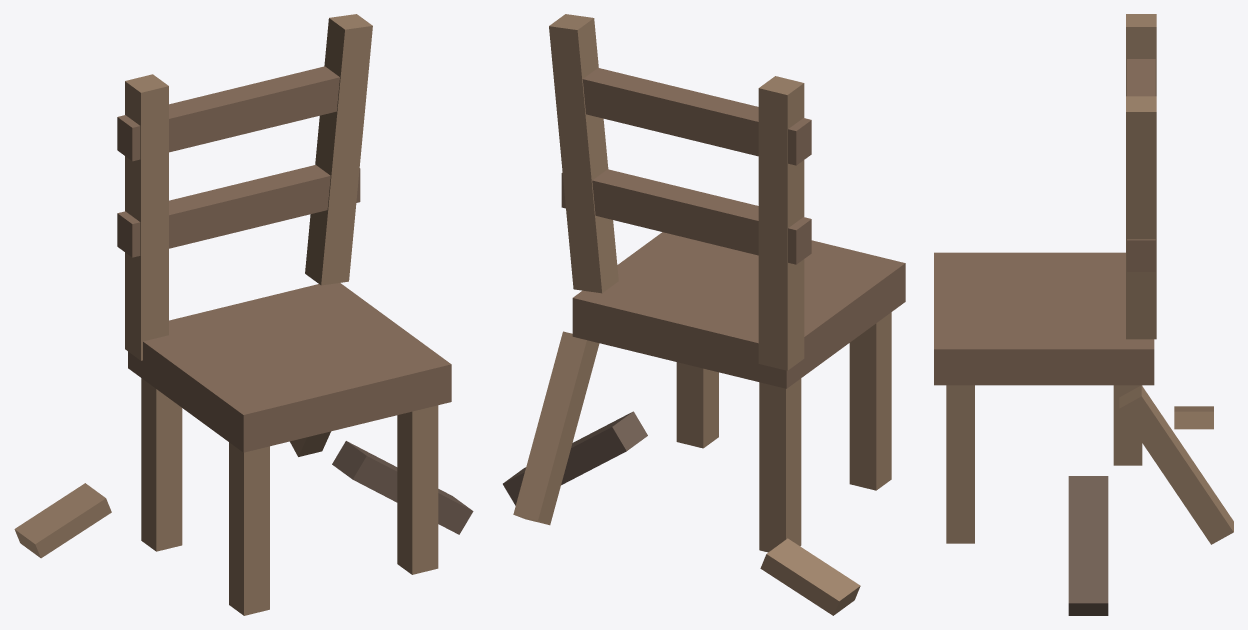
Rendered from Broken_Dining_Chair.glb.
The picture shows the model from 3 angles, left to right: view 1: azimuth 30°, elevation 25°; view 2: azimuth 150°, elevation 25°; view 3: azimuth 270°, elevation 25°; orthographic projection. The views are drawn at different scales.
Parts seen in each view (by area): view 1: Broken_Dining_Chair_piece_000, Broken_Dining_Chair_piece_008, Broken_Dining_Chair_piece_007, Broken_Dining_Chair_piece_006, Broken_Dining_Chair_piece_005, Broken_Dining_Chair_piece_002, Broken_Dining_Chair_piece_001, Broken_Dining_Chair_piece_003, Broken_Dining_Chair_piece_010, Broken_Dining_Chair_piece_009, Broken_Dining_Chair_piece_004; view 2: Broken_Dining_Chair_piece_000, Broken_Dining_Chair_piece_007, Broken_Dining_Chair_piece_008, Broken_Dining_Chair_piece_006, Broken_Dining_Chair_piece_005, Broken_Dining_Chair_piece_004, Broken_Dining_Chair_piece_003, Broken_Dining_Chair_piece_001, Broken_Dining_Chair_piece_010, Broken_Dining_Chair_piece_002, Broken_Dining_Chair_piece_009; view 3: Broken_Dining_Chair_piece_000, Broken_Dining_Chair_piece_008, Broken_Dining_Chair_piece_009, Broken_Dining_Chair_piece_004, Broken_Dining_Chair_piece_002, Broken_Dining_Chair_piece_003, Broken_Dining_Chair_piece_007, Broken_Dining_Chair_piece_006, Broken_Dining_Chair_piece_010, Broken_Dining_Chair_piece_005.
Boxes of the visible parts, <box> form: Broken_Dining_Chair_piece_000: <box>128,283,451,452</box>; Broken_Dining_Chair_piece_008: <box>305,14,372,285</box>; Broken_Dining_Chair_piece_007: <box>125,74,168,360</box>; Broken_Dining_Chair_piece_006: <box>117,66,339,161</box>; Broken_Dining_Chair_piece_005: <box>117,165,360,257</box>; Broken_Dining_Chair_piece_002: <box>397,405,438,574</box>; Broken_Dining_Chair_piece_001: <box>229,442,269,615</box>; Broken_Dining_Chair_piece_003: <box>141,378,182,551</box>; Broken_Dining_Chair_piece_010: <box>14,483,111,558</box>; Broken_Dining_Chair_piece_009: <box>332,441,473,534</box>; Broken_Dining_Chair_piece_004: <box>290,431,330,456</box>; Broken_Dining_Chair_piece_000: <box>572,232,905,388</box>; Broken_Dining_Chair_piece_007: <box>758,76,804,370</box>; Broken_Dining_Chair_piece_008: <box>549,14,618,293</box>; Broken_Dining_Chair_piece_006: <box>582,68,811,165</box>; Broken_Dining_Chair_piece_005: <box>561,169,811,264</box>; Broken_Dining_Chair_piece_004: <box>513,331,599,525</box>; Broken_Dining_Chair_piece_003: <box>759,378,801,552</box>; Broken_Dining_Chair_piece_001: <box>849,312,891,490</box>; Broken_Dining_Chair_piece_010: <box>760,538,860,615</box>; Broken_Dining_Chair_piece_002: <box>676,362,718,448</box>; Broken_Dining_Chair_piece_009: <box>503,411,647,505</box>; Broken_Dining_Chair_piece_000: <box>934,252,1154,385</box>; Broken_Dining_Chair_piece_008: <box>1126,96,1156,339</box>; Broken_Dining_Chair_piece_009: <box>1068,476,1108,615</box>; Broken_Dining_Chair_piece_004: <box>1119,385,1233,544</box>; Broken_Dining_Chair_piece_002: <box>946,385,974,543</box>; Broken_Dining_Chair_piece_003: <box>1113,385,1142,465</box>; Broken_Dining_Chair_piece_007: <box>1126,14,1156,96</box>; Broken_Dining_Chair_piece_006: <box>1127,59,1155,96</box>; Broken_Dining_Chair_piece_010: <box>1174,406,1213,429</box>; Broken_Dining_Chair_piece_005: <box>1127,239,1155,271</box>.
Size of the model in its own units: 0.9568 by 1.2 by 0.6801.
